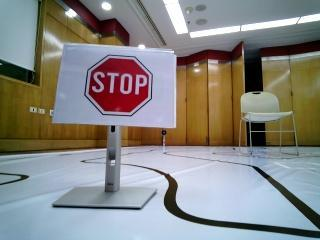stop: (60, 49, 164, 122)
